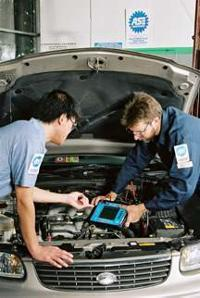person: (89, 90, 200, 241)
